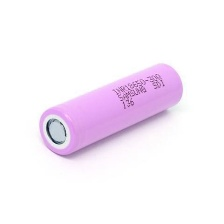battery: (34, 59, 185, 160)
